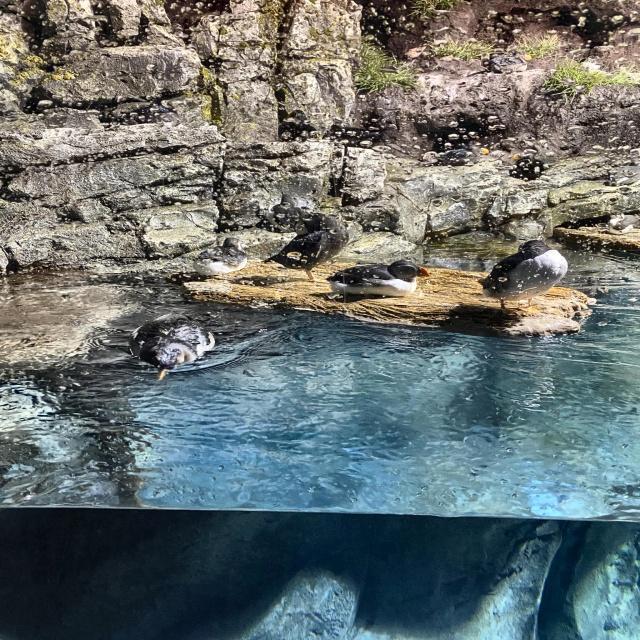puffin: (252, 202, 348, 283), (480, 239, 569, 312), (131, 304, 213, 382), (331, 263, 429, 303), (438, 144, 492, 168), (485, 52, 537, 76), (510, 151, 539, 182)
